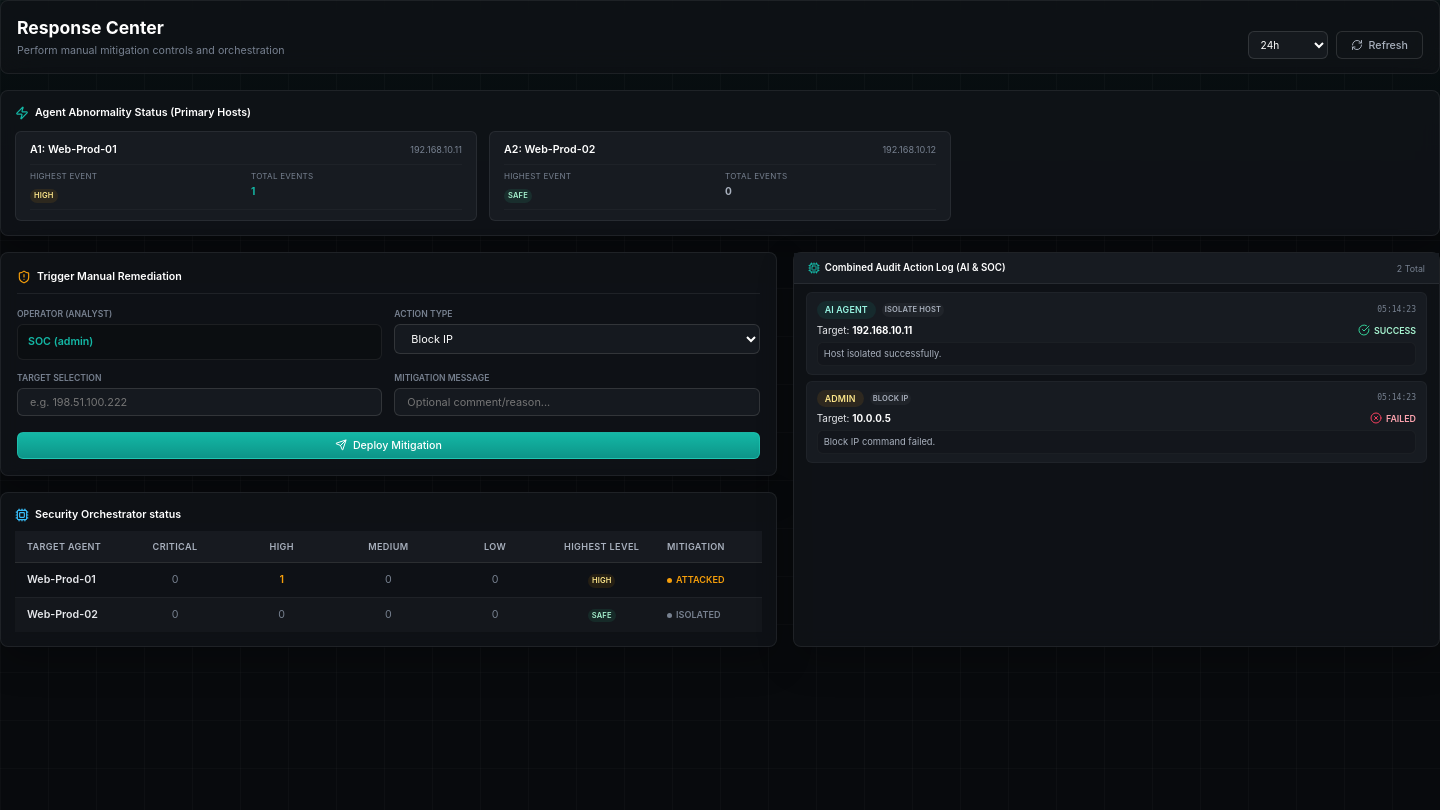
Test case: ResponseCenter Component › remediation form submission validation - missing target
The width and height of the screenshot is (1440, 810).
Click the button "Deploy Mitigation" at (388, 445), box [17,432,760,459]
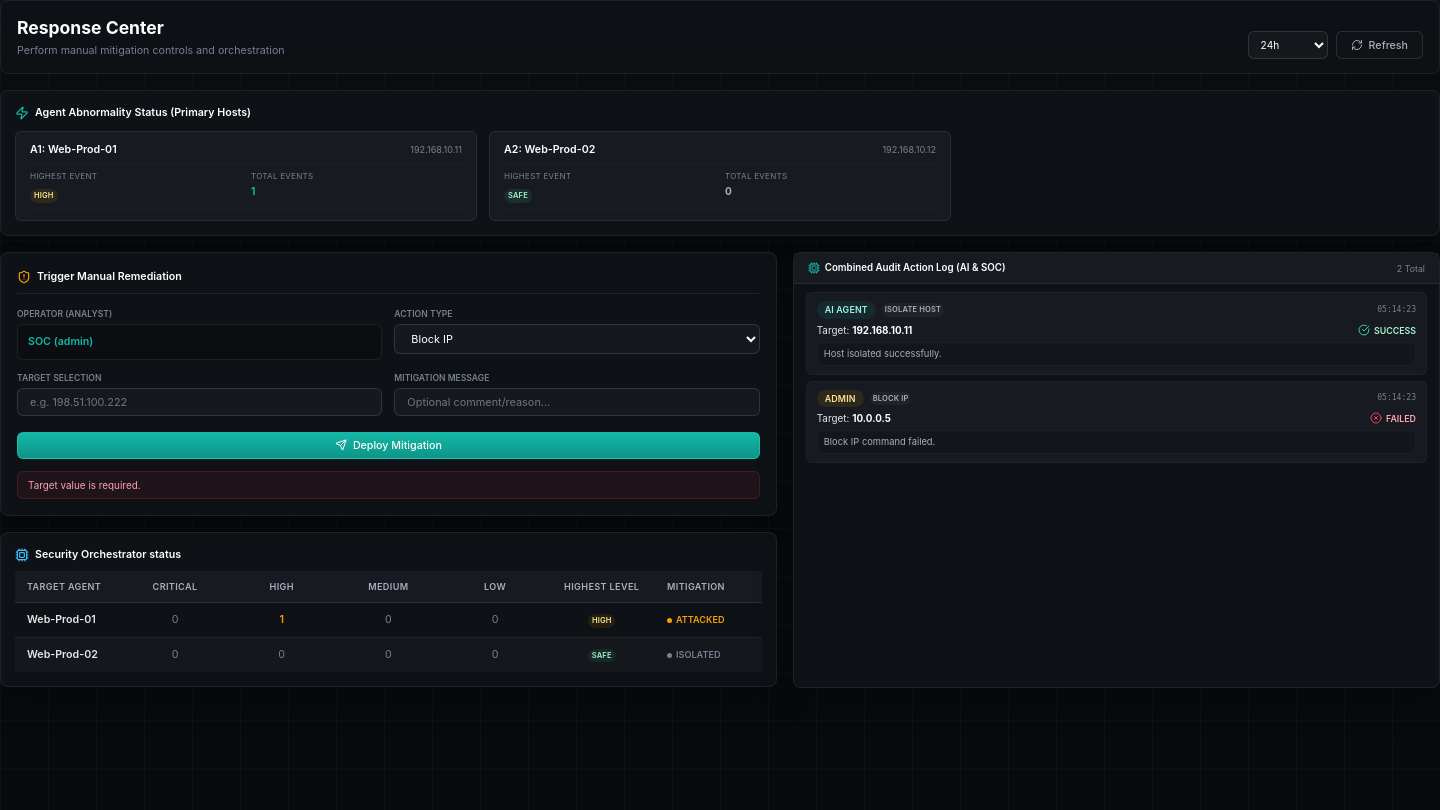
Expected: the text "Target value is required." is shown, [17,471,760,499]
